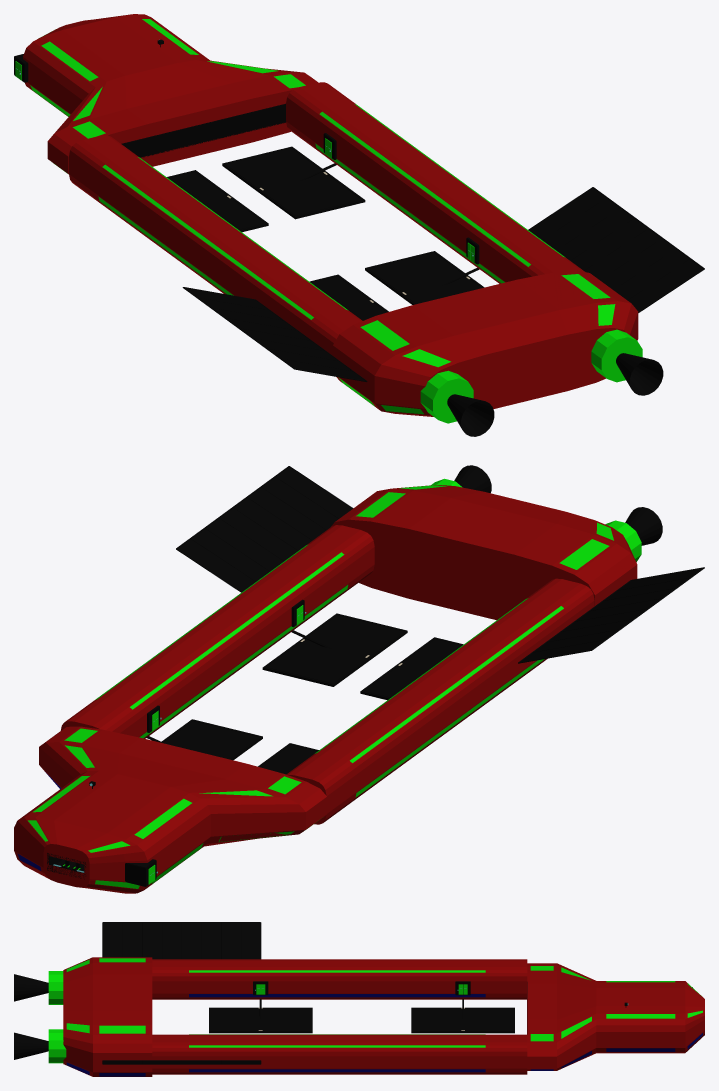
Rendered from crosscurrent.glb.
3 views of the same model, one above another, from view 1: azimuth 30°, elevation 25°; view 2: azimuth 150°, elevation 25°; view 3: azimuth 270°, elevation 25° (orthographic). The views are drawn at different scales.
Parts seen in each view (by area): view 1: expedition_crosscurrent:aft_engine_module, expedition_crosscurrent:forward_pressure_cluster, expedition_crosscurrent:port-spine, expedition_crosscurrent:stbd-spine, expedition_crosscurrent:radiator_2, expedition_crosscurrent:cradle_stbd-spine cradle 1, expedition_crosscurrent:radiator_1, expedition_crosscurrent:cradle_stbd-spine cradle 2, expedition_crosscurrent:room_forecross, expedition_crosscurrent:service_panels_3, expedition_crosscurrent:service_panels_1, expedition_crosscurrent:cradle_port-spine cradle 1 (+7 smaller); view 2: expedition_crosscurrent:forward_pressure_cluster, expedition_crosscurrent:aft_engine_module, expedition_crosscurrent:port-spine, expedition_crosscurrent:stbd-spine, expedition_crosscurrent:radiator_2, expedition_crosscurrent:cradle_stbd-spine cradle 2, expedition_crosscurrent:radiator_1, expedition_crosscurrent:service_panels_0, expedition_crosscurrent:service_panels_3, expedition_crosscurrent:service_panels_2, expedition_crosscurrent:cradle_stbd-spine cradle 1, expedition_crosscurrent:cradle_port-spine cradle 2 (+4 smaller); view 3: expedition_crosscurrent:stbd-spine, expedition_crosscurrent:port-spine, expedition_crosscurrent:forward_pressure_cluster, expedition_crosscurrent:aft_engine_module, expedition_crosscurrent:radiator_1, expedition_crosscurrent:cradle_port-spine cradle 1, expedition_crosscurrent:cradle_port-spine cradle 2, expedition_crosscurrent:service_panels_3, expedition_crosscurrent:service_panels_2, expedition_crosscurrent:service_panels_0, expedition_crosscurrent:service_panels_1, expedition_crosscurrent:radiator_2 (+4 smaller).
Boxes of the visible parts, x1,y1,x2,y2 form: expedition_crosscurrent:aft_engine_module: (333,270,638,416); expedition_crosscurrent:forward_pressure_cluster: (23,14,317,174); expedition_crosscurrent:port-spine: (69,135,362,355); expedition_crosscurrent:stbd-spine: (286,82,584,283); expedition_crosscurrent:radiator_2: (528,187,704,312); expedition_crosscurrent:cradle_stbd-spine cradle 1: (222,146,365,219); expedition_crosscurrent:radiator_1: (182,287,367,381); expedition_crosscurrent:cradle_stbd-spine cradle 2: (365,251,484,304); expedition_crosscurrent:room_forecross: (122,104,286,157); expedition_crosscurrent:service_panels_3: (315,104,565,283); expedition_crosscurrent:service_panels_1: (338,274,615,414); expedition_crosscurrent:cradle_port-spine cradle 1: (167,170,268,232); expedition_crosscurrent:forward_pressure_cluster: (14,726,326,893); expedition_crosscurrent:aft_engine_module: (330,485,637,620); expedition_crosscurrent:port-spine: (286,578,594,824); expedition_crosscurrent:stbd-spine: (60,525,374,738); expedition_crosscurrent:radiator_2: (176,466,353,592); expedition_crosscurrent:cradle_stbd-spine cradle 2: (262,613,407,686); expedition_crosscurrent:radiator_1: (518,567,704,663); expedition_crosscurrent:service_panels_0: (17,728,318,888); expedition_crosscurrent:service_panels_3: (95,544,348,738); expedition_crosscurrent:service_panels_2: (315,598,563,797); expedition_crosscurrent:cradle_stbd-spine cradle 1: (161,719,262,760); expedition_crosscurrent:cradle_port-spine cradle 2: (360,637,463,700); expedition_crosscurrent:stbd-spine: (152,1034,527,1074); expedition_crosscurrent:port-spine: (152,959,527,999); expedition_crosscurrent:forward_pressure_cluster: (527,963,704,1070); expedition_crosscurrent:aft_engine_module: (63,957,152,1076); expedition_crosscurrent:radiator_1: (102,922,261,959); expedition_crosscurrent:cradle_port-spine cradle 1: (411,1007,514,1033); expedition_crosscurrent:cradle_port-spine cradle 2: (209,1007,312,1033); expedition_crosscurrent:service_panels_3: (189,1034,485,1072); expedition_crosscurrent:service_panels_2: (189,970,485,997); expedition_crosscurrent:service_panels_0: (530,966,702,1070); expedition_crosscurrent:service_panels_1: (66,958,145,1076); expedition_crosscurrent:radiator_2: (102,1060,261,1064).
Bounding box in the file's own units: 68.17 × 10.96 × 140.
